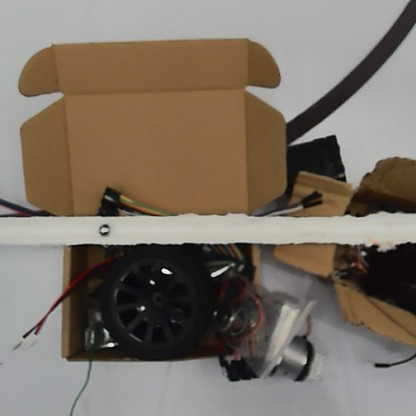ironball: (96, 221, 111, 235)
